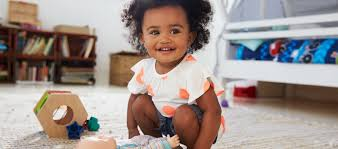child: (116, 1, 223, 148)
